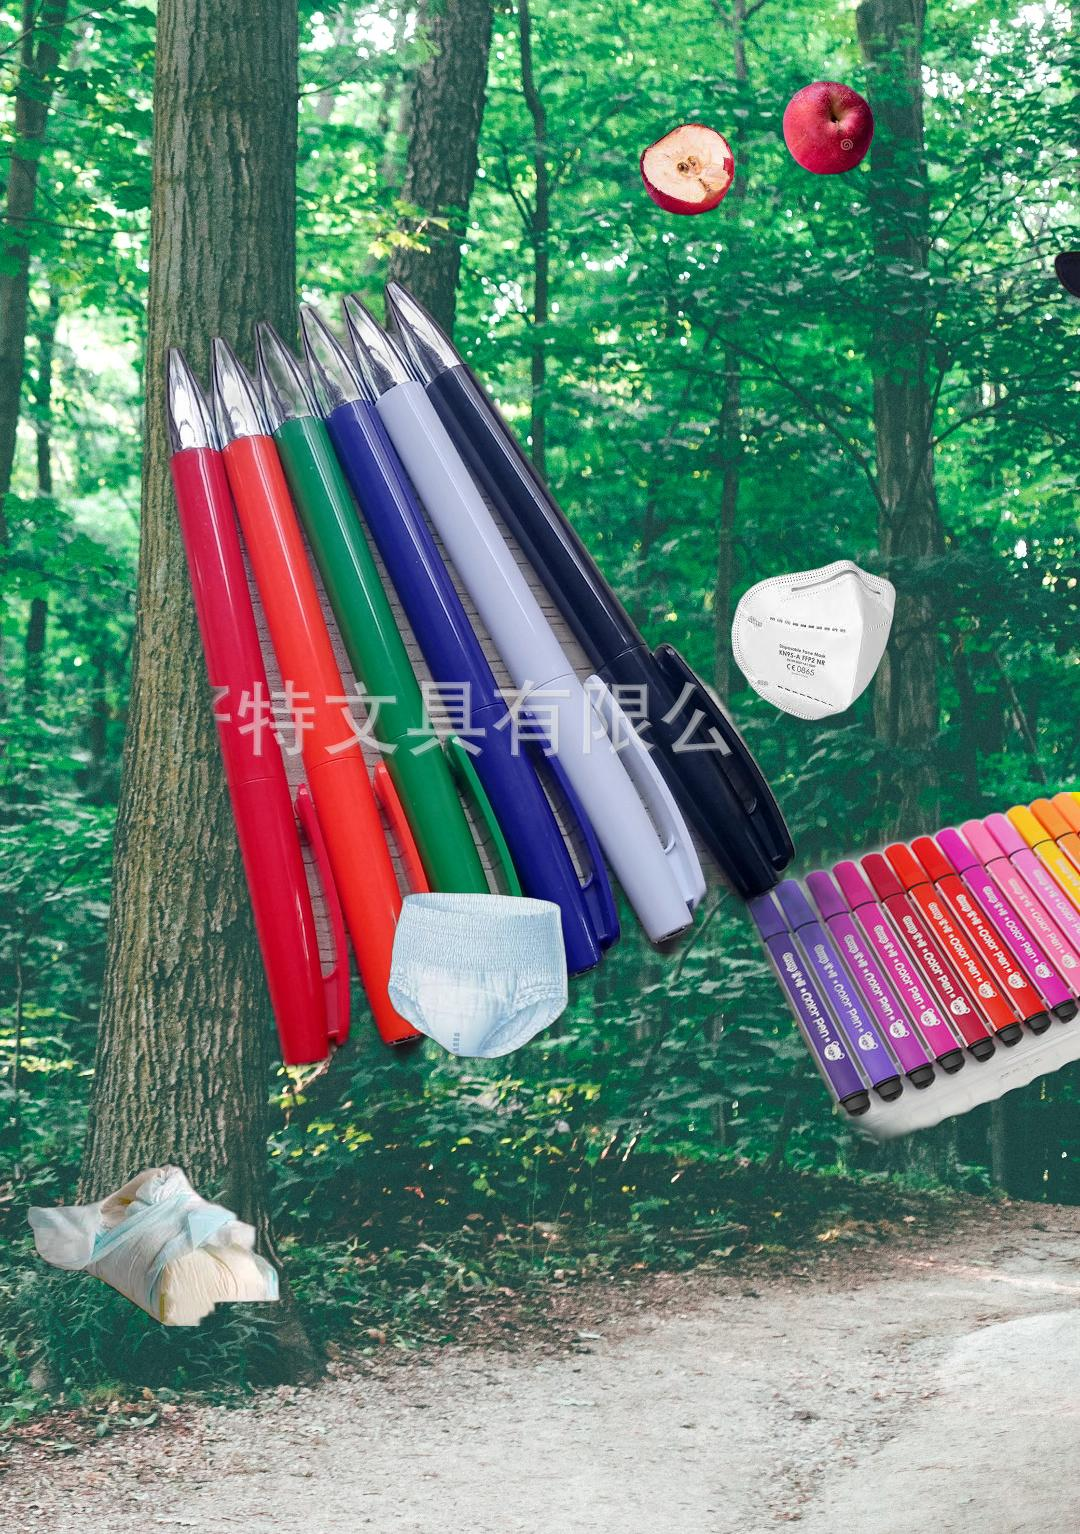biological: (637, 78, 877, 218)
penholder: (154, 271, 805, 1087), (746, 792, 1080, 1292)
shoes: (1051, 171, 1080, 423)
trash: (25, 1158, 288, 1326), (676, 528, 899, 723), (385, 889, 572, 1062)
